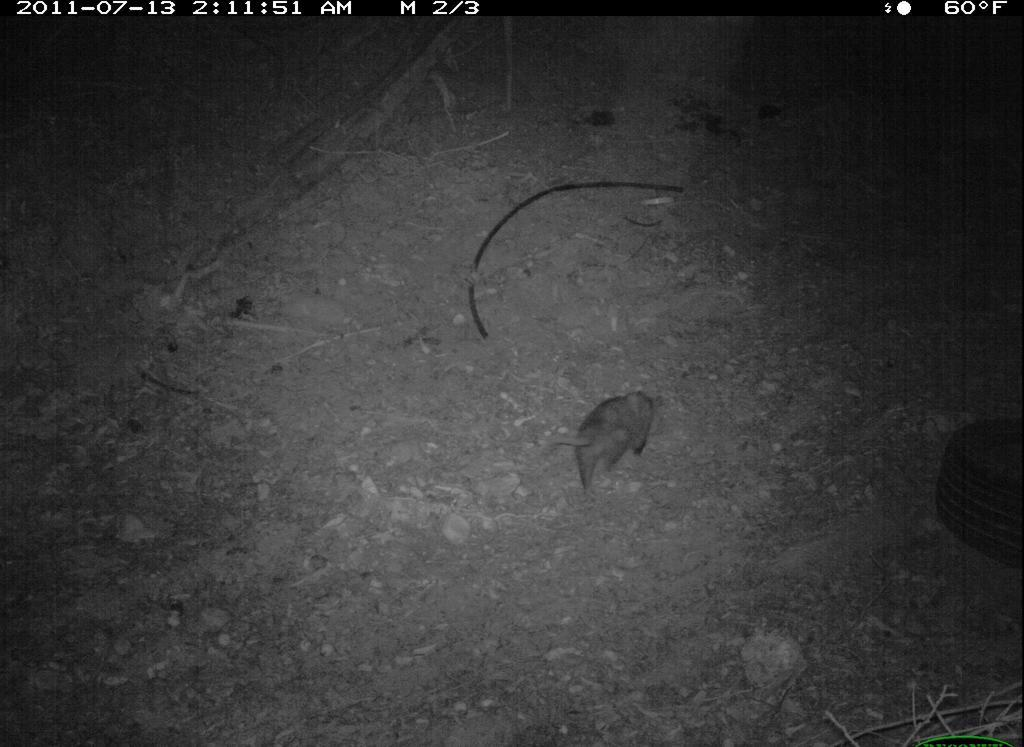opossum: (547, 383, 661, 497)
